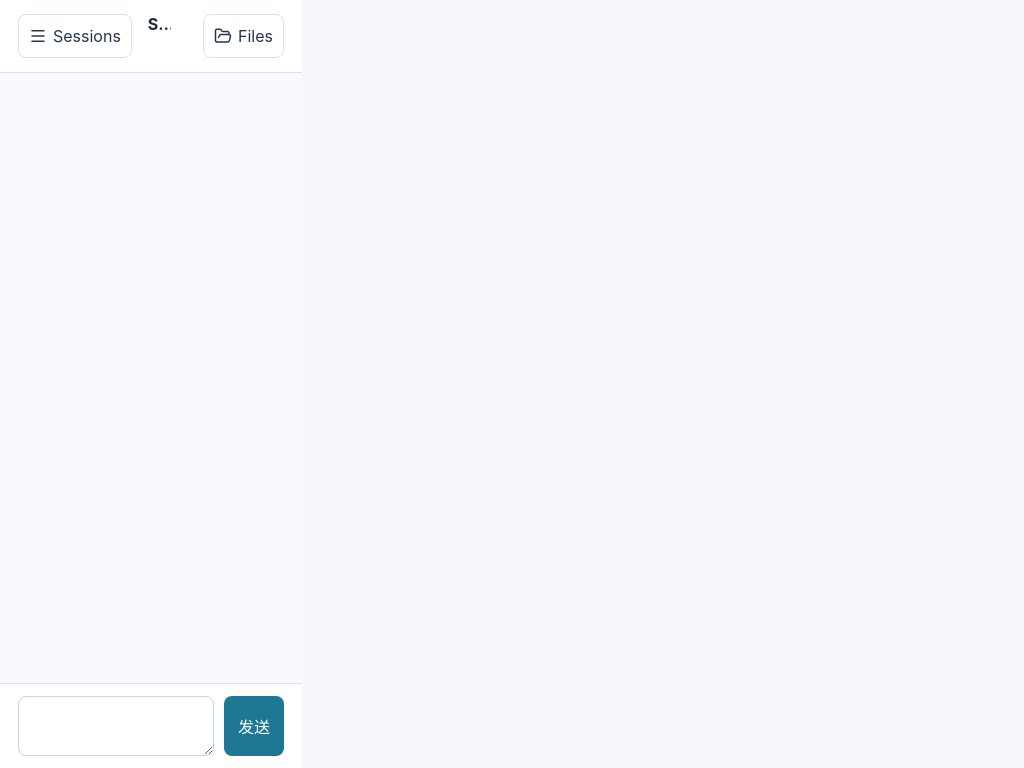
Test: mobile: × discard on draft row clears pendingSession + selected
expect the heading "Session A" is shown: met, box x1=148 y1=14 x2=171 y2=34
Click the button "Sessions" at (75, 36), box x1=18 y1=14 x2=132 y2=58
(page scrolled)
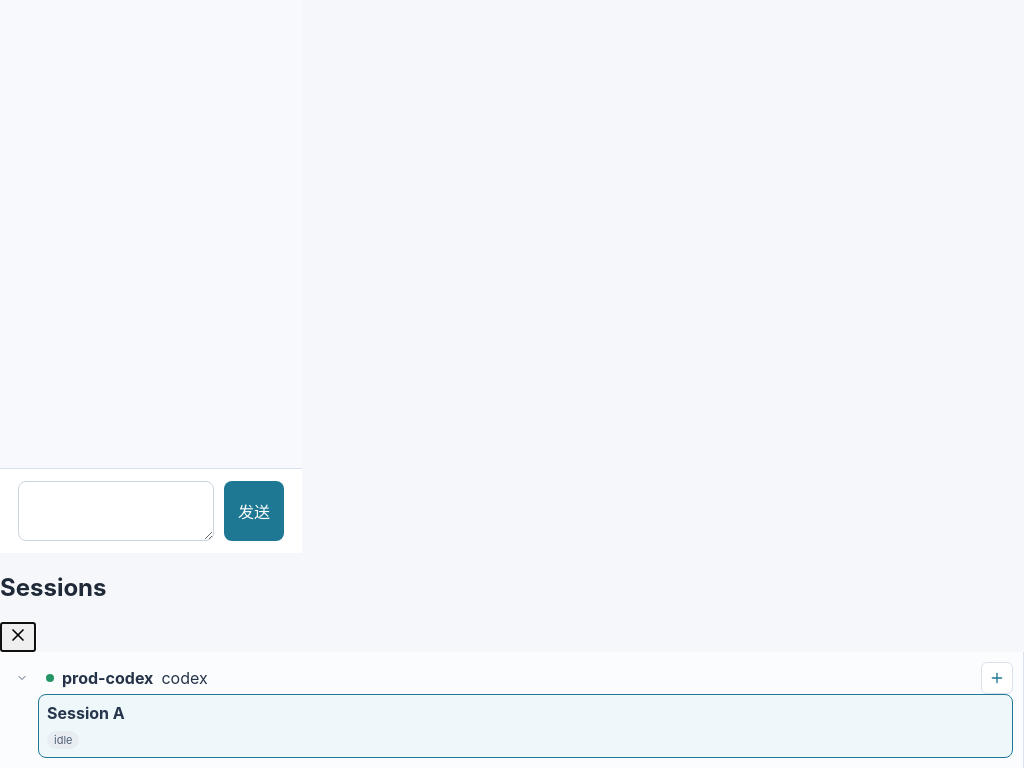
Click the button named "新建 session: prod-codex" at (997, 678), box x1=981 y1=662 x2=1013 y2=694
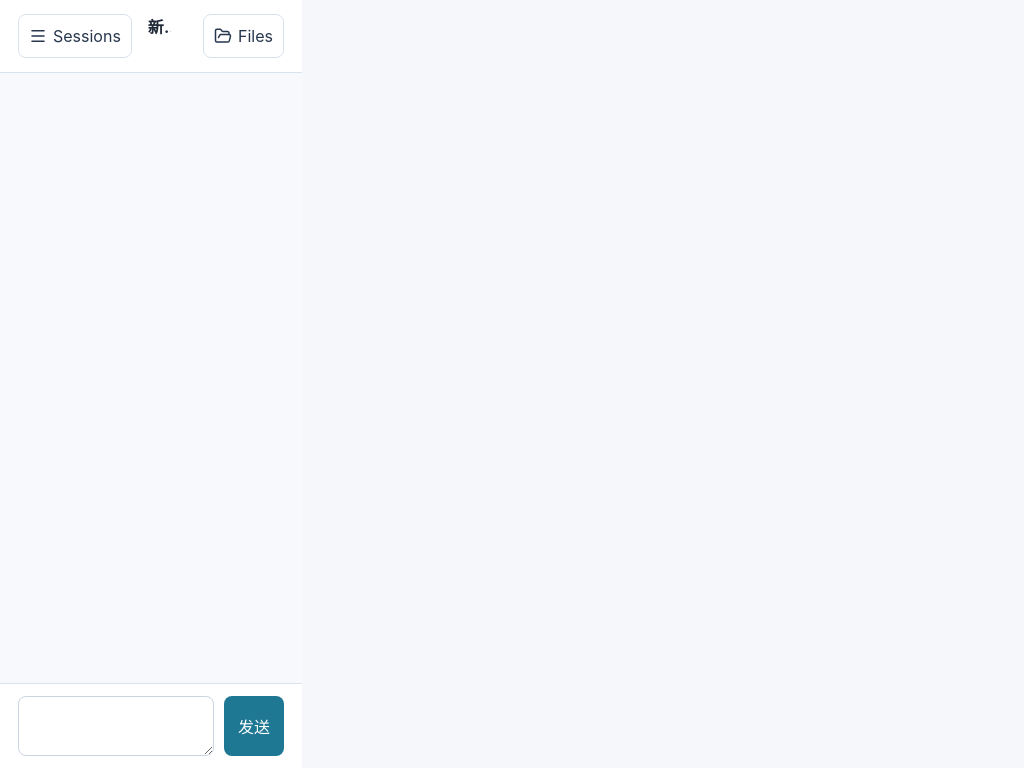
expect the dialog with test id "drawer-left" is gone: met
Click the button "Sessions" at (75, 36), box x1=18 y1=14 x2=132 y2=58
(page scrolled)
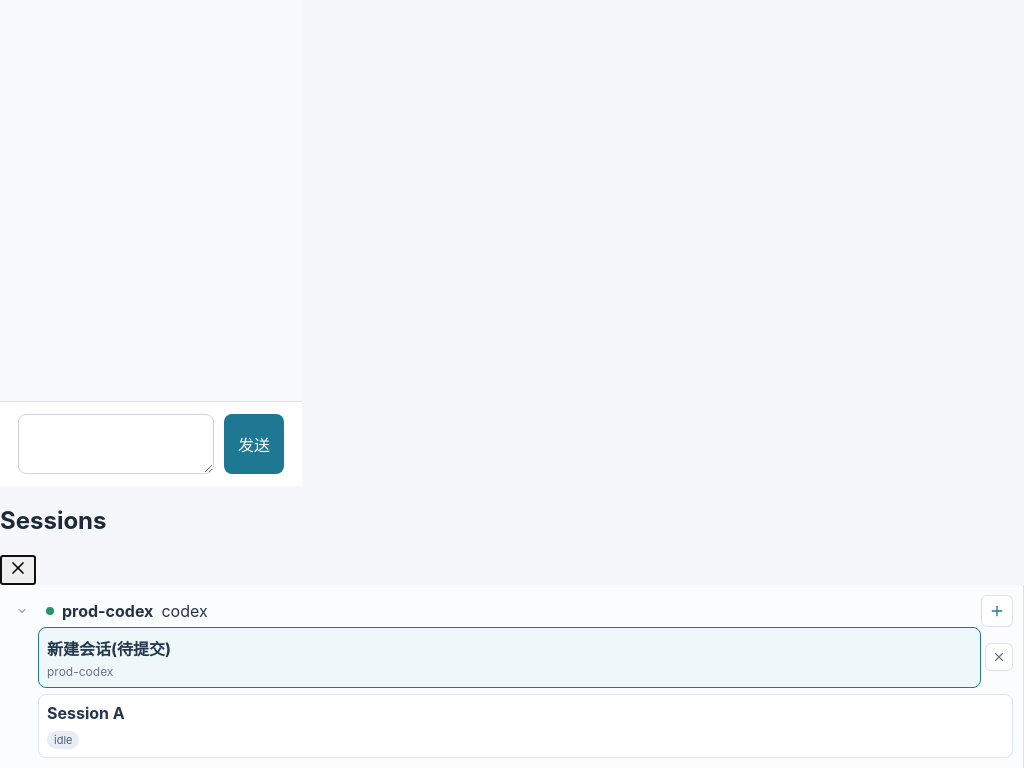
expect the text "新建会话(待提交)" is shown: met, box x1=47 y1=639 x2=171 y2=659
Click the button named "丢弃草稿" at (999, 657), box x1=985 y1=643 x2=1013 y2=671
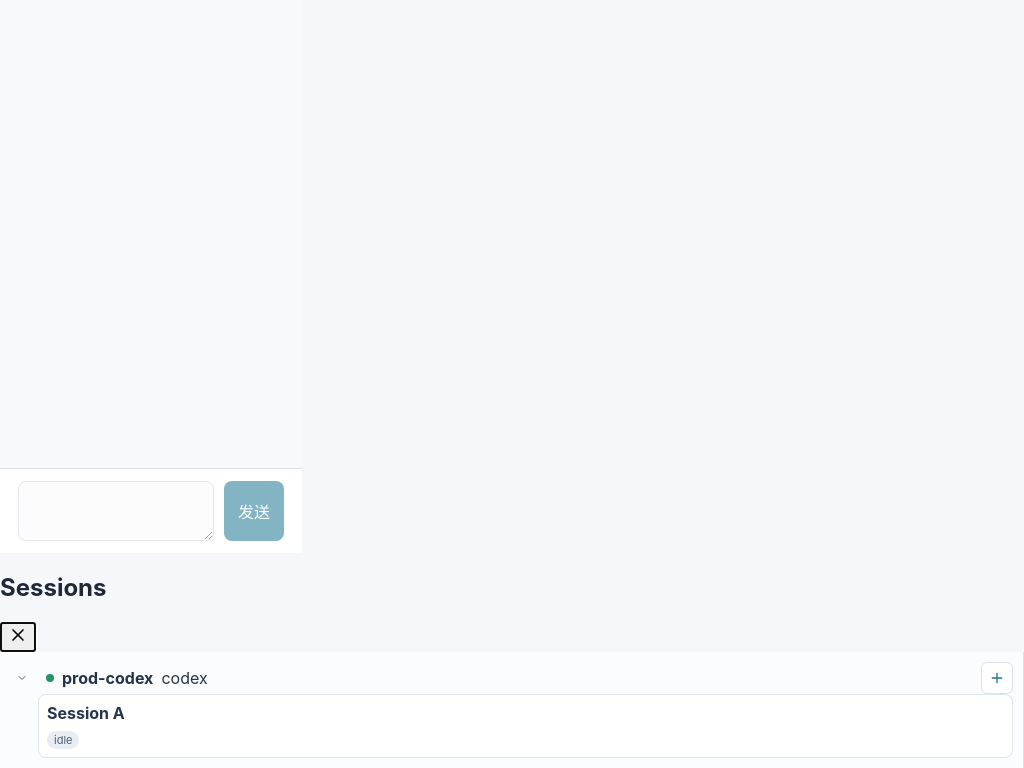
expect the button "新建会话(待提交)" is gone: met
